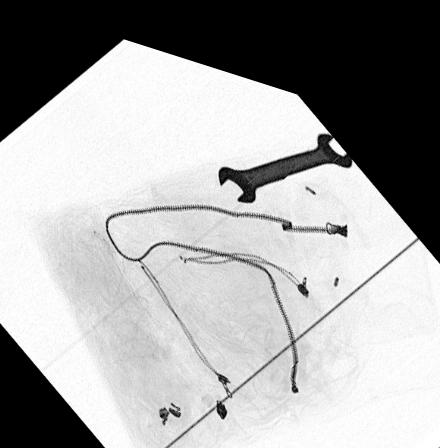Wrench: (218, 112, 352, 188)
